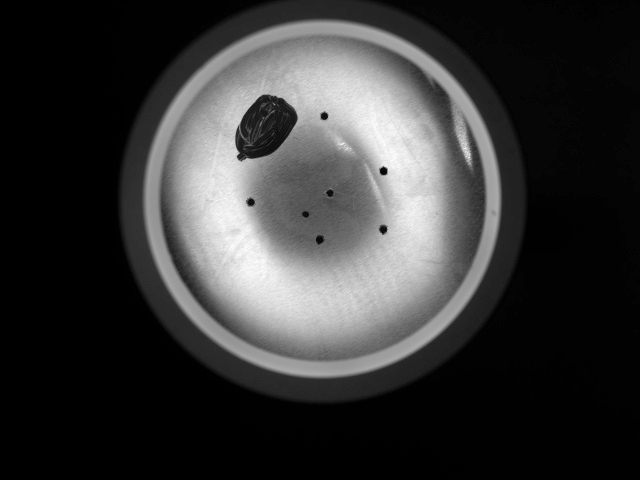zang_wu: (226, 80, 306, 170)
zhen_kong: (319, 180, 343, 204), (292, 203, 318, 224), (312, 108, 337, 127), (373, 219, 393, 242), (374, 161, 395, 182), (241, 191, 260, 214), (310, 232, 330, 249)
